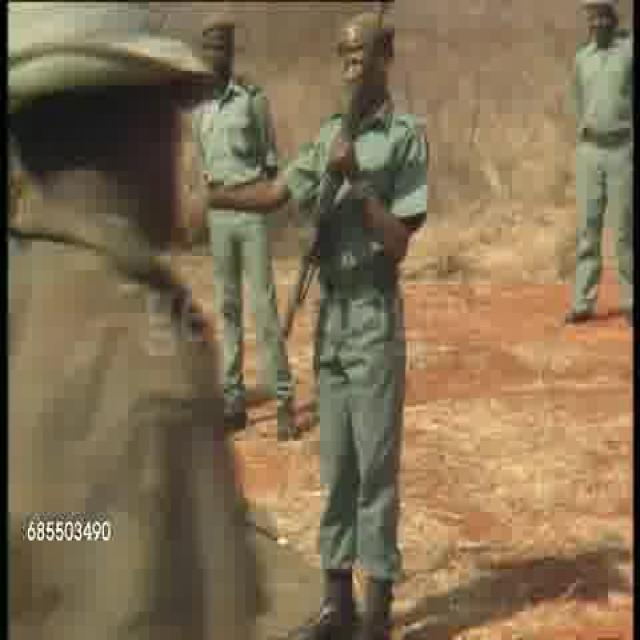poacher: (1, 2, 208, 576), (285, 1, 467, 622), (197, 6, 308, 428), (556, 2, 640, 356)
weapon: (284, 9, 388, 336)
